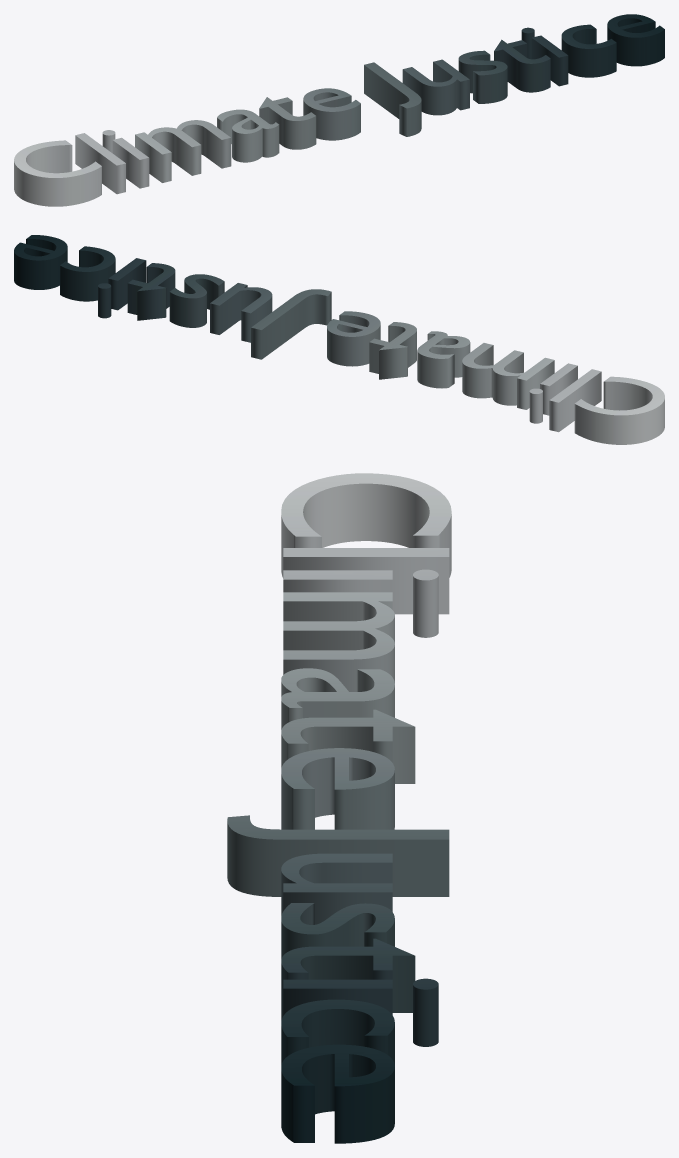
3 renders of one model, top to bottom at view 1: azimuth 30°, elevation 25°; view 2: azimuth 150°, elevation 25°; view 3: azimuth 270°, elevation 25°, orthographic. The views are drawn at different scales.
Parts seen in each view (by area): view 1: 文字.019; view 2: 文字.019; view 3: 文字.019.
Boxes of the visible parts, x1=… form: 文字.019: x1=14, y1=14, x2=664, y2=206; 文字.019: x1=14, y1=235, x2=664, y2=444; 文字.019: x1=227, y1=473, x2=451, y2=1143.
Size of the model in its own units: 5.96 by 0.26 by 0.921.
1 material, 1 textured.
